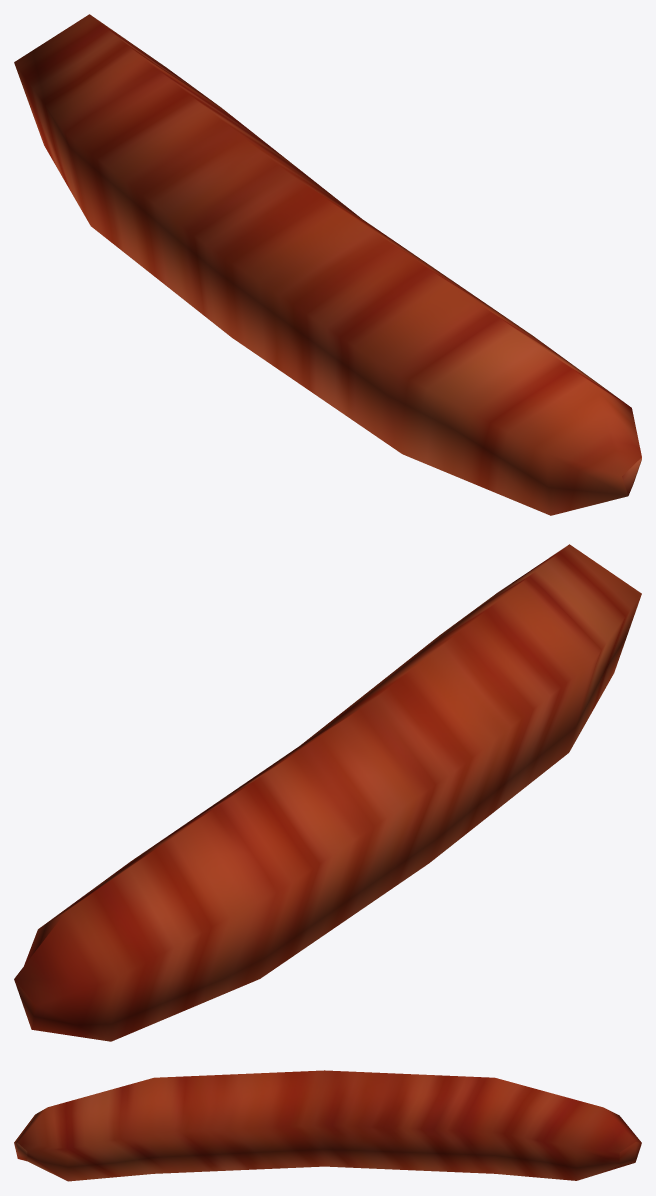
File: Sausage_1.fbx
The picture shows the model from 3 angles, top to bottom: view 1: azimuth 30°, elevation 25°; view 2: azimuth 150°, elevation 25°; view 3: azimuth 270°, elevation 25°; orthographic projection. The views are drawn at different scales.
Parts seen in each view (by area): view 1: Sausage_1; view 2: Sausage_1; view 3: Sausage_1.
Part boxes in pixels (x1=…): Sausage_1: x1=14, y1=14, x2=641, y2=515; Sausage_1: x1=14, y1=544, x2=641, y2=1041; Sausage_1: x1=14, y1=1070, x2=641, y2=1181.
Bounding box in the file's own units: 0.0745 × 0.0612 × 0.3899.
